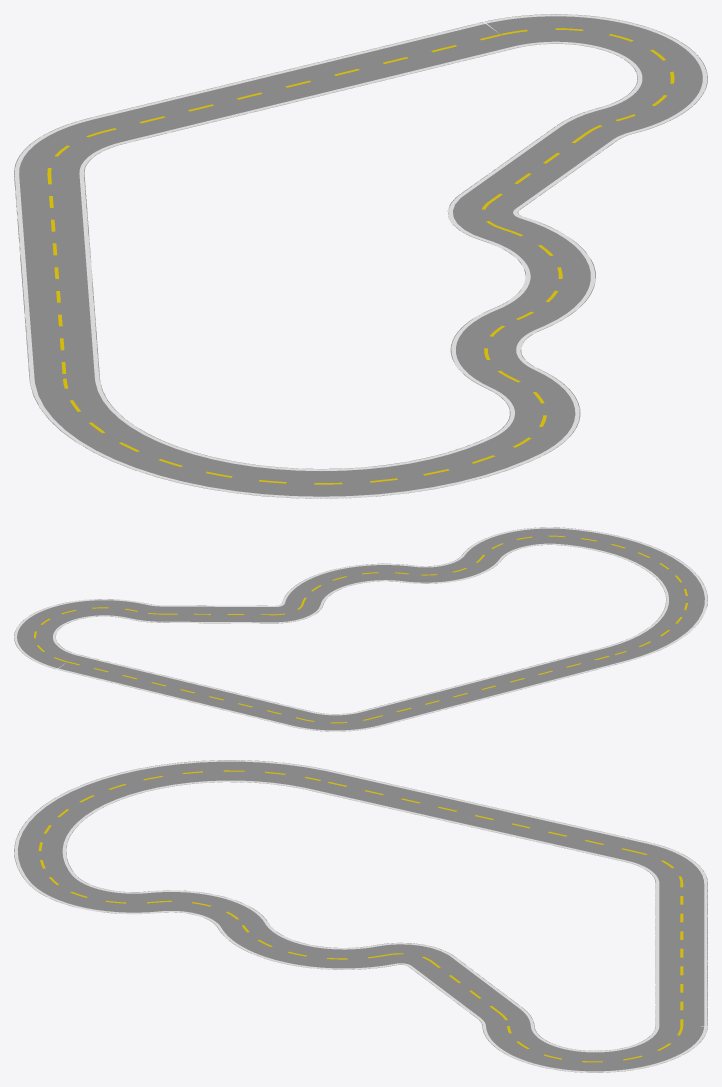
The model's file is track5.fbx.
3 views of the same model, one above another, from view 1: azimuth 30°, elevation 25°; view 2: azimuth 150°, elevation 25°; view 3: azimuth 270°, elevation 25° (orthographic). The views are drawn at different scales.
Visible parts, largest first — view 1: road_arc_49, road_straight_48, road_straight_40, road_arc_56, road_arc_52, road_straight_54, road_arc_50, road_arc_51, road_arc_41, road_arc_53, road_arc_55; view 2: road_arc_49, road_straight_48, road_straight_40, road_arc_56, road_arc_52, road_straight_54, road_arc_50, road_arc_51, road_arc_41, road_arc_53, road_arc_55; view 3: road_arc_49, road_straight_48, road_straight_40, road_arc_56, road_arc_52, road_straight_54, road_arc_50, road_arc_51, road_arc_41, road_arc_53, road_arc_55.
Boxes of the visible parts, <box> form: road_arc_49: <box>29,378,542,498</box>; road_straight_48: <box>14,174,99,379</box>; road_straight_40: <box>89,22,517,143</box>; road_arc_56: <box>485,14,707,133</box>; road_arc_52: <box>482,216,595,330</box>; road_straight_54: <box>459,125,616,209</box>; road_arc_50: <box>487,368,580,455</box>; road_arc_51: <box>450,308,540,388</box>; road_arc_41: <box>14,118,122,174</box>; road_arc_53: <box>447,195,522,240</box>; road_arc_55: <box>557,108,634,140</box>; road_arc_49: <box>559,528,707,661</box>; road_straight_48: <box>360,647,625,725</box>; road_straight_40: <box>57,654,311,726</box>; road_arc_56: <box>14,599,147,669</box>; road_arc_52: <box>282,563,414,604</box>; road_straight_54: <box>161,605,274,623</box>; road_arc_50: <box>462,527,566,559</box>; road_arc_51: <box>403,554,501,583</box>; road_arc_41: <box>291,711,381,731</box>; road_arc_53: <box>274,603,323,623</box>; road_arc_55: <box>128,603,161,622</box>; road_arc_49: <box>14,760,332,881</box>; road_straight_48: <box>308,771,649,861</box>; road_straight_40: <box>655,883,707,1026</box>; road_arc_56: <box>482,1025,707,1072</box>; road_arc_52: <box>218,923,396,969</box>; road_straight_54: <box>409,956,522,1018</box>; road_arc_50: <box>26,874,159,914</box>; road_arc_51: <box>148,890,268,927</box>; road_arc_41: <box>625,842,707,883</box>; road_arc_53: <box>376,942,453,966</box>; road_arc_55: <box>477,1008,534,1026</box>.
Bounding box in the file's own units: 10669 × 0.00121 × 10000.
